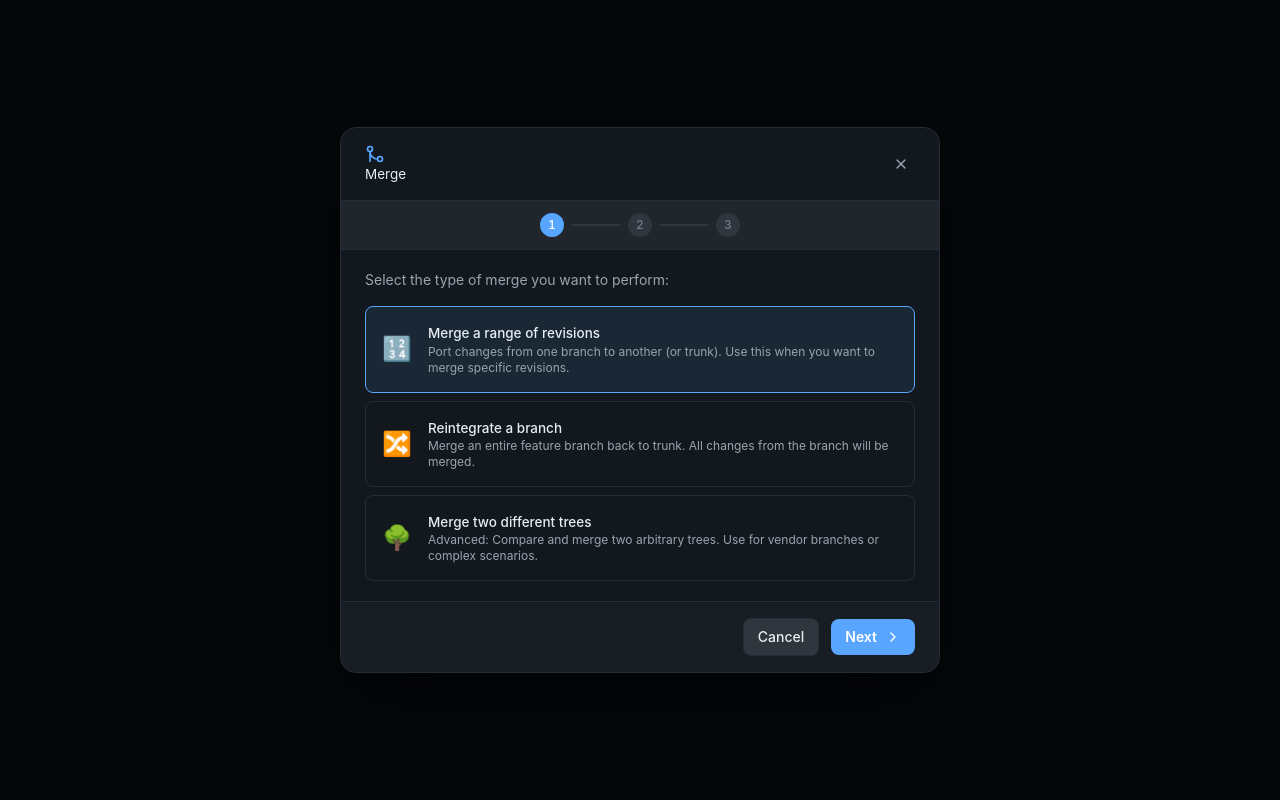
Test: MergeWizard › runs dry-run preview and shows merge output with conflict summary
Click the button "Next" at coordinates (873, 637), box [831,619,915,655]
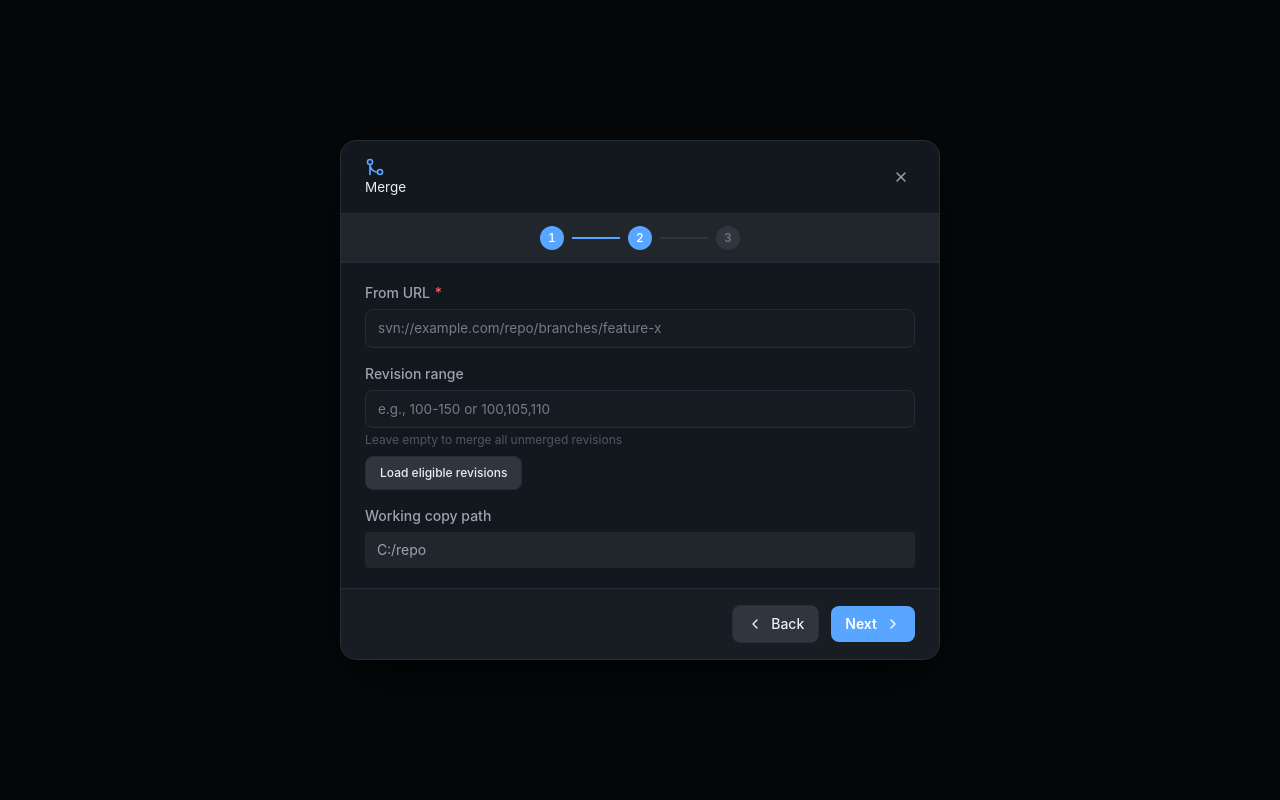
Type "https://svn.example.com/repo/branches/feature" into the field labelled "From URL *" at coordinates (640, 329), box [365,309,915,348]
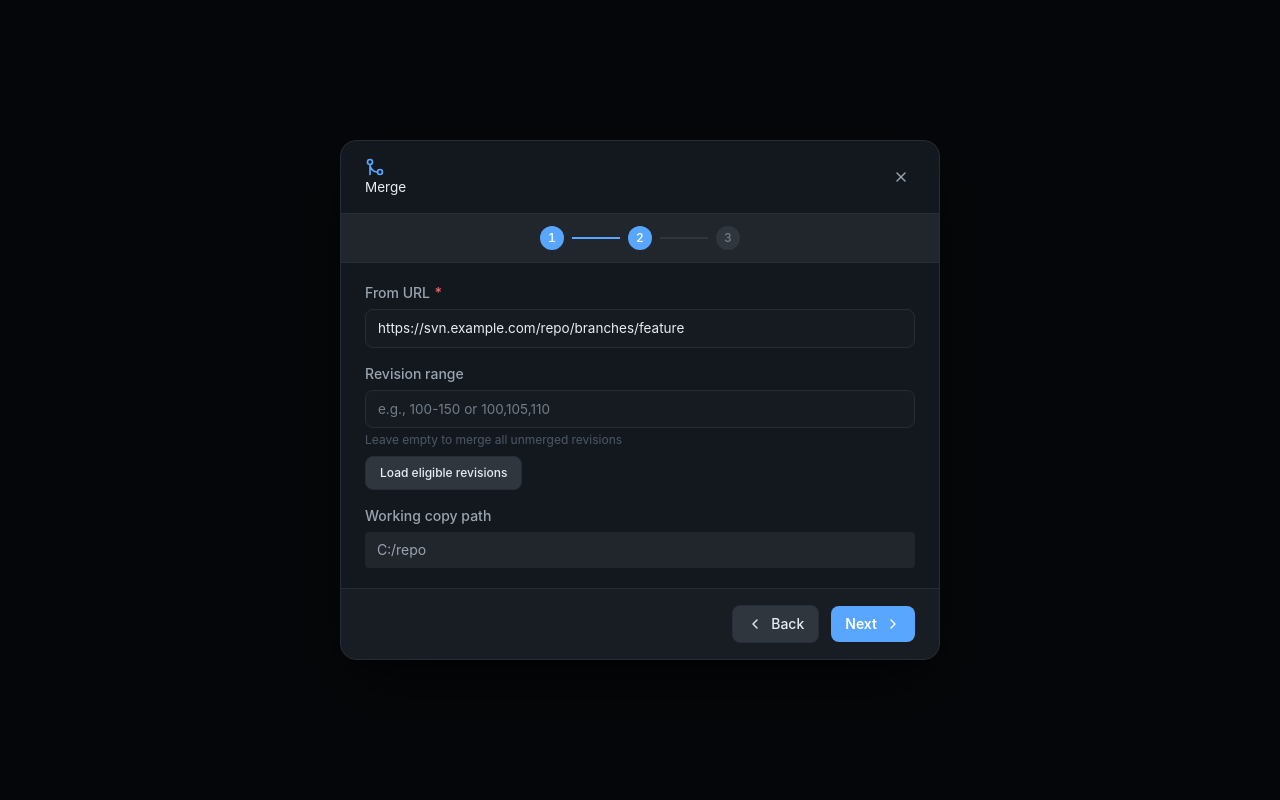
Type "100-150,155" into the field labelled "Revision range" at coordinates (640, 409), box [365,390,915,428]
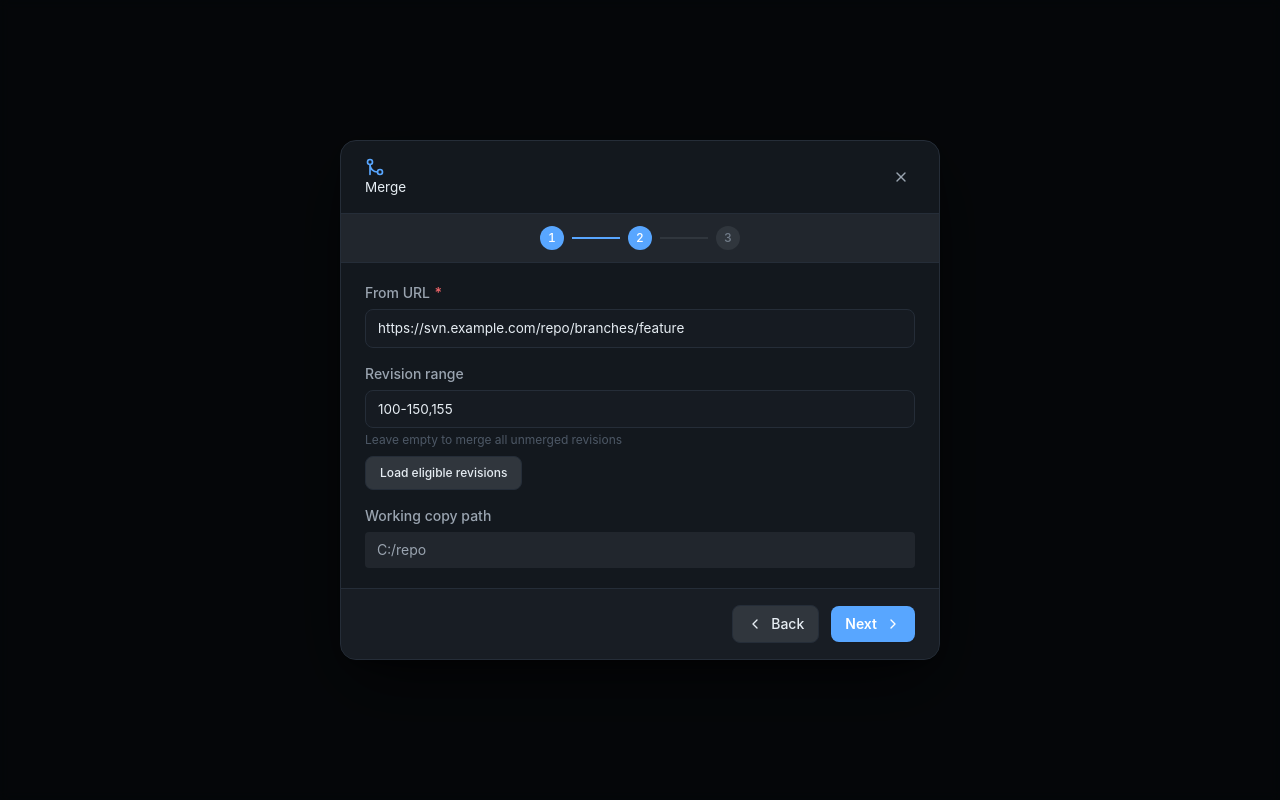
Click the button "Next" at coordinates (873, 624), box [831,606,915,642]
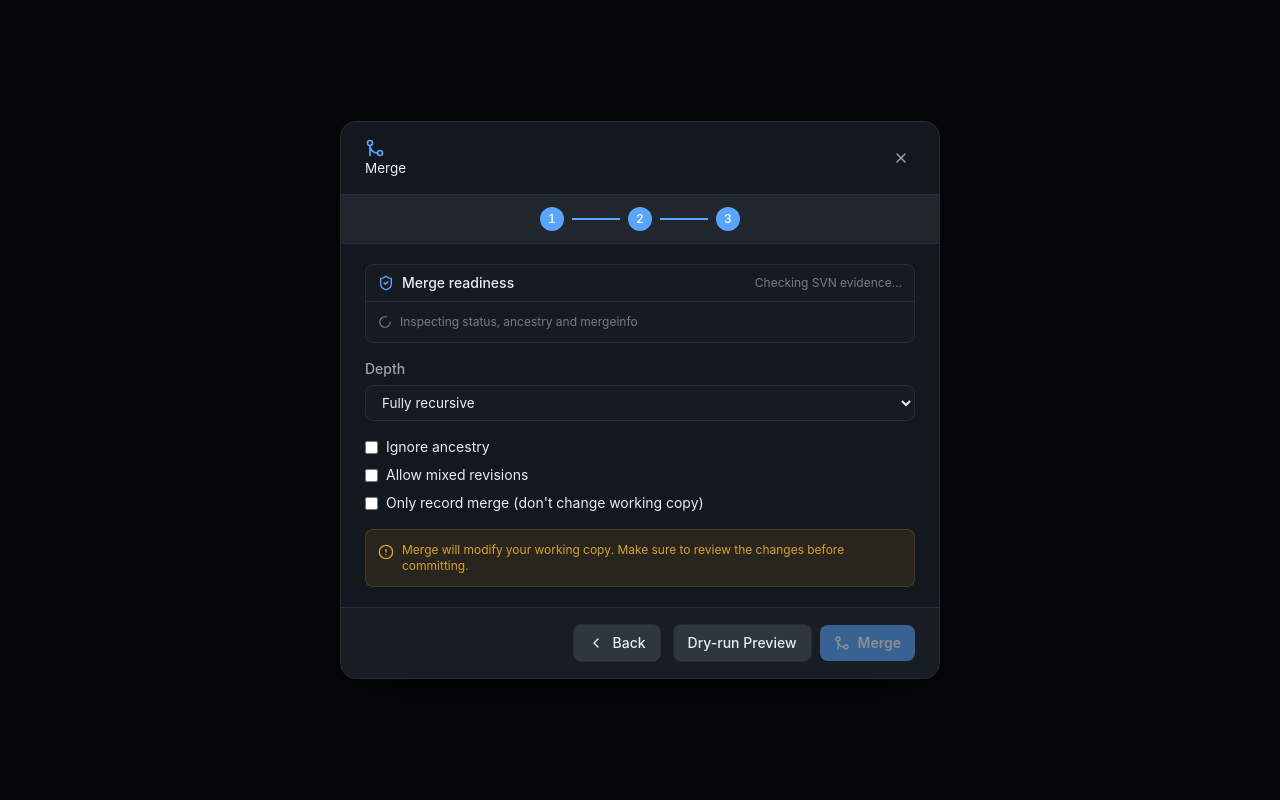
Click the button "Dry-run Preview" at coordinates (742, 643), box [672,624,812,662]
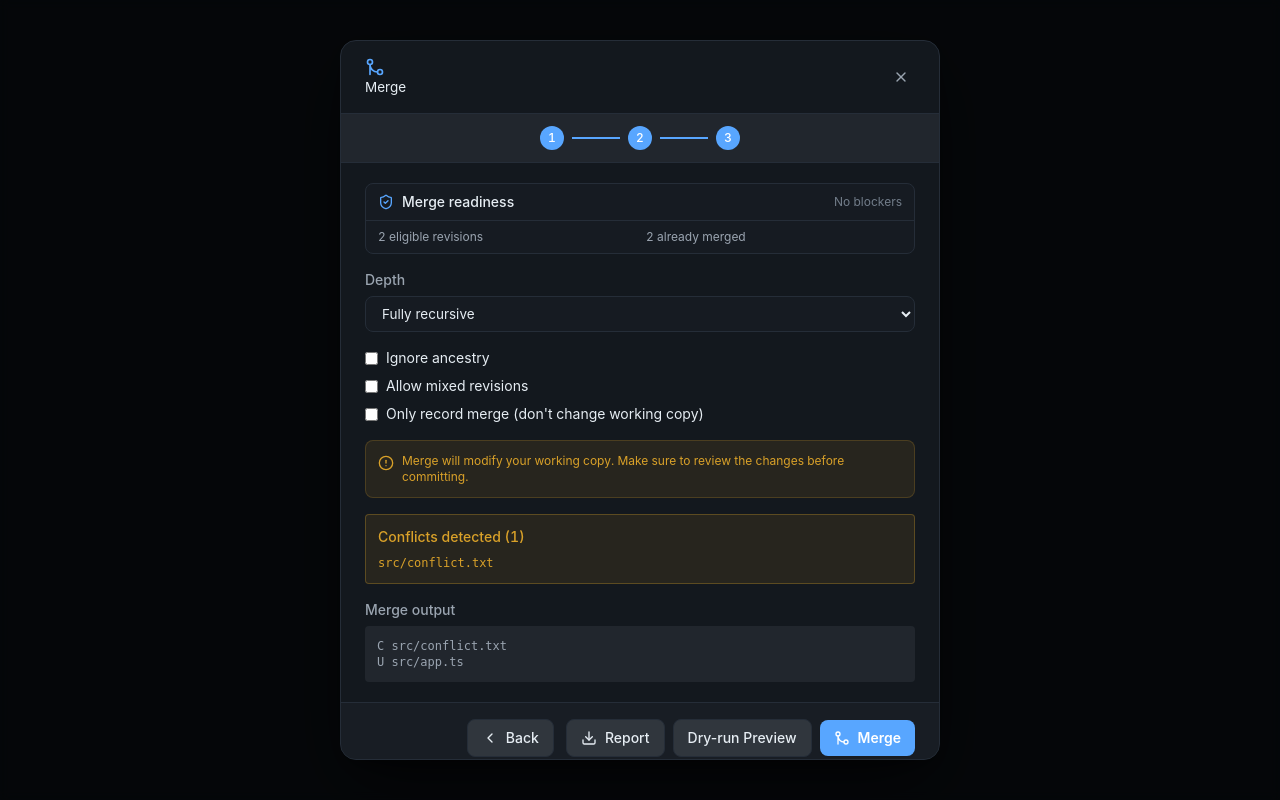
expect the text "Conflicts detected (1)" is shown: met, box [378,528,525,545]
expect the list item "src/conflict.txt" is shown: met, box [378,556,494,570]
expect the text "C src/conflict.txt U src/app.ts" is shown: met, box [365,626,915,682]
